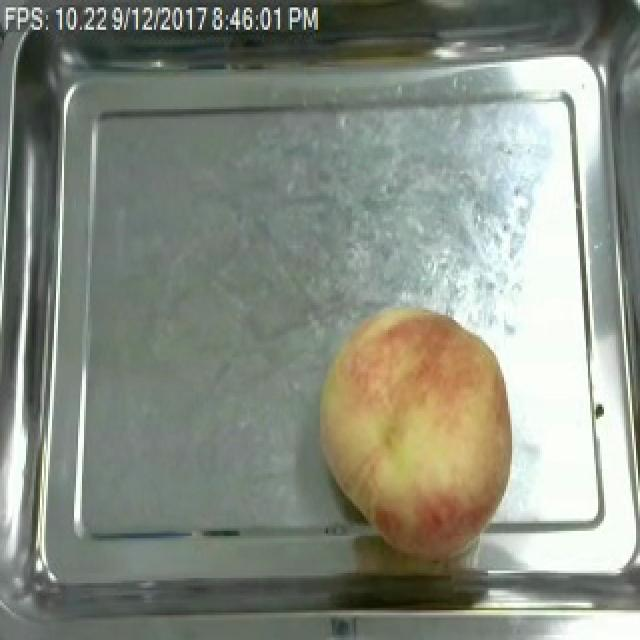Fruit: (308, 298, 522, 563)
